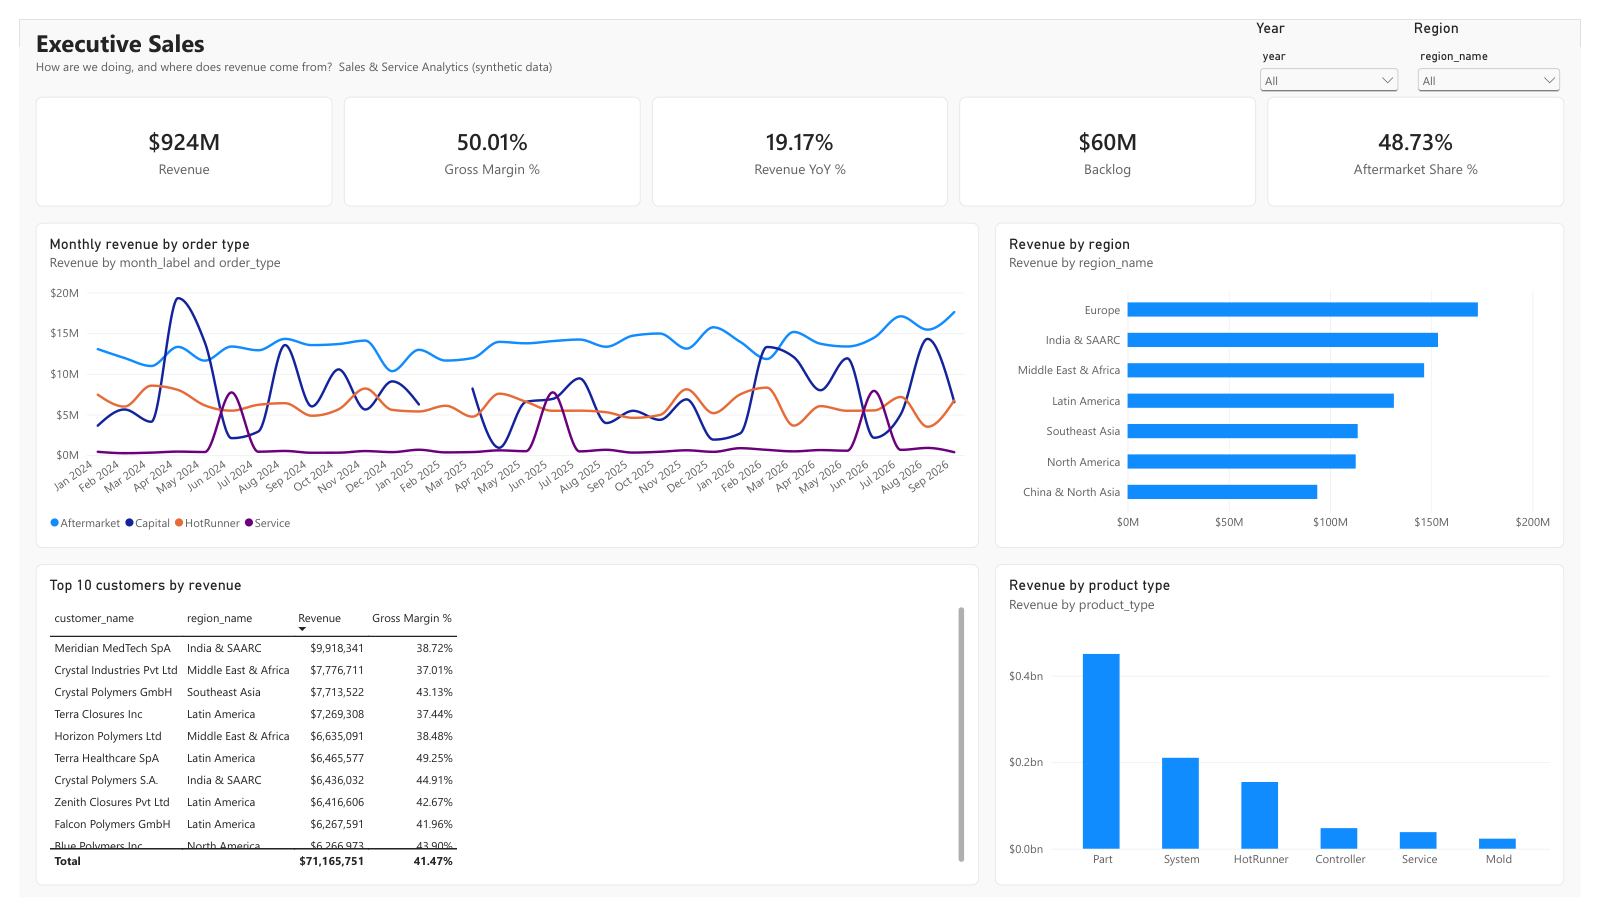

The dashboard page shown, as its layout file describes it:
{"tool":"powerbi","page":{"name":"Executive Sales","canvas":[1920,1080],"ordinal":0},"visuals":[{"type":"textbox","box":[20,8,1480,74],"z":0},{"type":"slicer","title":"Year","fields":{"Values":["dim_date.year"]},"box":[1521,0,180,95],"z":1},{"type":"slicer","title":"Region","fields":{"Values":["dim_region.region_name"]},"box":[1715,0,185,95],"z":2},{"type":"card","fields":{"Values":["_Measures.Revenue"]},"box":[20,95,364.8,135],"z":3},{"type":"card","fields":{"Values":["_Measures.Gross Margin %"]},"box":[398.8,95,364.8,135],"z":4},{"type":"card","fields":{"Values":["_Measures.Revenue YoY %"]},"box":[777.6,95,364.8,135],"z":5},{"type":"card","fields":{"Values":["_Measures.Backlog"]},"box":[1156.4,95,364.8,135],"z":6},{"type":"card","fields":{"Values":["_Measures.Aftermarket Share %"]},"box":[1535.2,95,364.8,135],"z":7},{"type":"lineChart","title":"Monthly revenue by order type","fields":{"Category":["dim_date.month_label"],"Series":["fact_sales.order_type"],"Y":["_Measures.Revenue"]},"box":[20,250,1160,400],"z":8},{"type":"clusteredBarChart","title":"Revenue by region","fields":{"Category":["dim_region.region_name"],"Y":["_Measures.Revenue"]},"box":[1200,250,700,400],"z":9},{"type":"tableEx","title":"Top 10 customers by revenue","fields":{"Values":["dim_customer.customer_name","dim_region.region_name","_Measures.Revenue","_Measures.Gross Margin %"]},"box":[20,670,1160,395],"z":10},{"type":"clusteredColumnChart","title":"Revenue by product type","fields":{"Category":["dim_product.product_type"],"Y":["_Measures.Revenue"]},"box":[1200,670,700,395],"z":11}]}

Visuals, with their boxes in screenshot pixels (x1, y1, x2, y2), scaled from the page's 1920x1080 canvas onto the 1600x918 screenshot:
textbox: (left=17, top=7, right=1250, bottom=70)
"Year" slicer: (left=1268, top=0, right=1418, bottom=81)
"Region" slicer: (left=1429, top=0, right=1583, bottom=81)
card - _Measures.Revenue: (left=17, top=81, right=321, bottom=196)
card - _Measures.Gross Margin %: (left=332, top=81, right=636, bottom=196)
card - _Measures.Revenue YoY %: (left=648, top=81, right=952, bottom=196)
card - _Measures.Backlog: (left=964, top=81, right=1268, bottom=196)
card - _Measures.Aftermarket Share %: (left=1279, top=81, right=1583, bottom=196)
"Monthly revenue by order type" lineChart: (left=17, top=212, right=983, bottom=552)
"Revenue by region" clusteredBarChart: (left=1000, top=212, right=1583, bottom=552)
"Top 10 customers by revenue" tableEx: (left=17, top=570, right=983, bottom=905)
"Revenue by product type" clusteredColumnChart: (left=1000, top=570, right=1583, bottom=905)
